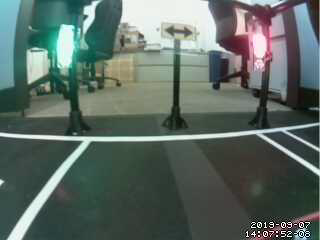Left_Right_sign: (161, 21, 198, 43)
Traffic_light_green: (57, 26, 75, 70)
Traffic_light_red: (249, 31, 271, 66)
